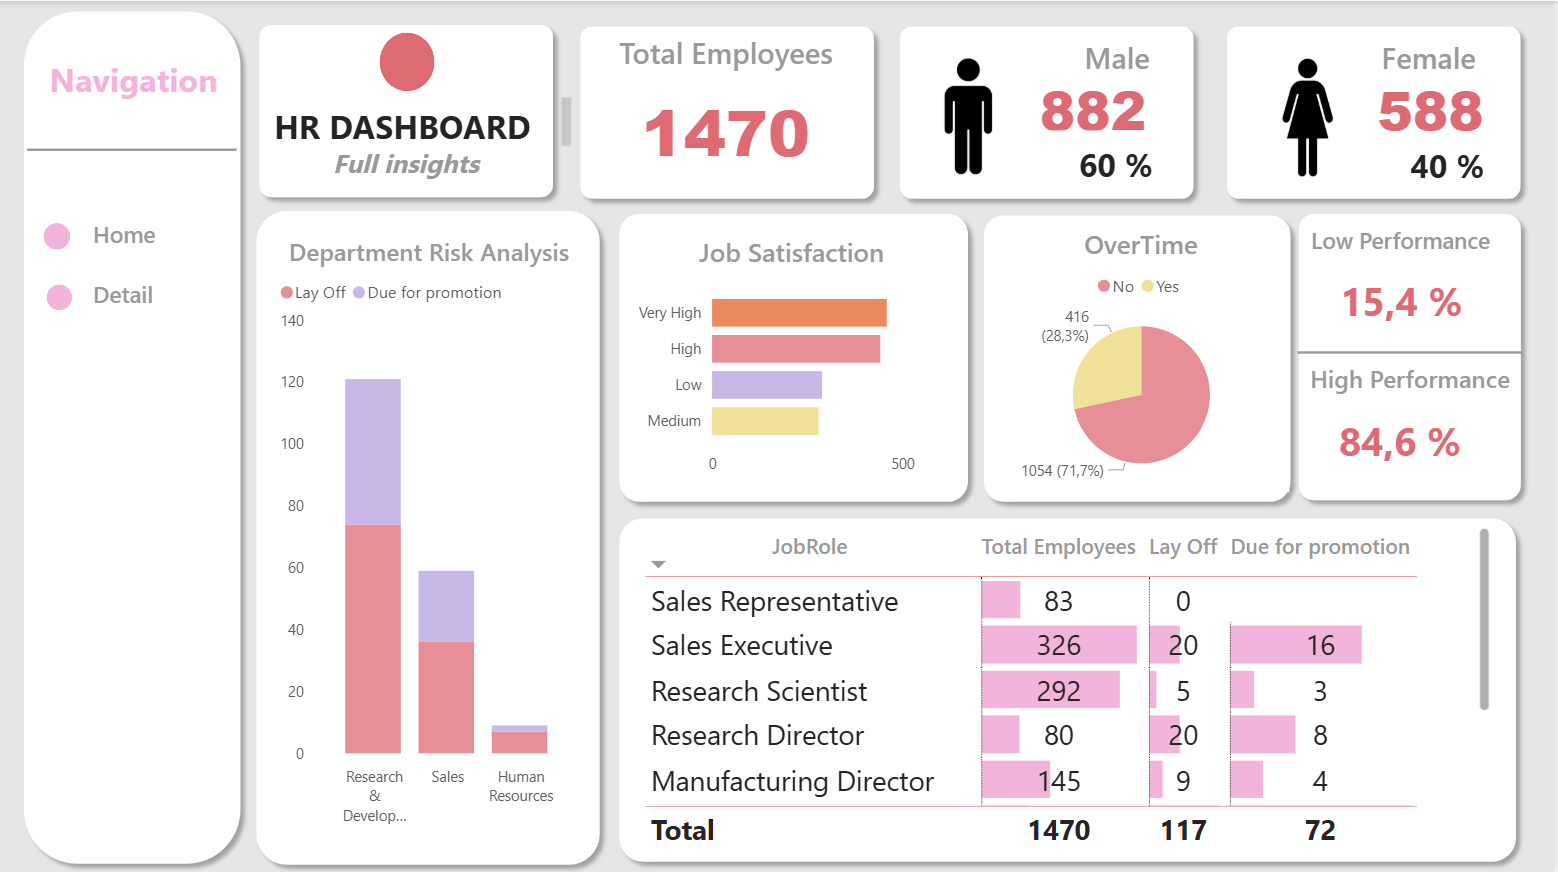

What the dashboard file says about the page in this screenshot:
{"tool":"powerbi","page":{"name":"Detail","canvas":[1280,720],"ordinal":1},"visuals":[{"type":"shape","box":[10.6,0,195.3,719.2],"z":0},{"type":"shape","box":[205.4,10.6,258.9,159],"z":1000},{"type":"shape","box":[469.4,12.1,258.9,159],"z":2000},{"type":"shape","box":[733.4,12.1,258.9,159],"z":3000},{"type":"shape","box":[1002.4,12.1,258.9,159],"z":4000},{"type":"textbox","box":[186.2,74.2,289.2,51.5],"z":5000},{"type":"textbox","box":[185.7,101.5,289.2,81.8],"z":6000},{"type":"shape","box":[312.9,25.7,45.4,48.5],"z":7000},{"type":"cardVisual","title":"Total Employees","fields":{"Data":["All Measures.Total Employees"]},"box":[482.3,25.7,232.5,128.4],"z":8000},{"type":"cardVisual","title":"Male","fields":{"Data":["All Measures.Male"]},"box":[822.7,51.5,156,77.2],"z":9000},{"type":"textbox","box":[888.8,24.2,74.2,42.4],"z":10000},{"type":"cardVisual","fields":{"Data":["All Measures.% male"]},"box":[801.5,101.5,177.2,62.1],"z":11000},{"type":"image","box":[750,24.2,95.4,140.8],"z":12000},{"type":"cardVisual","fields":{"Data":["All Measures.% female"]},"box":[1105.4,103,146.9,62.1],"z":13000},{"type":"cardVisual","title":"Male","fields":{"Data":["All Measures.Female"]},"box":[1100.8,51.5,156,77.2],"z":14000},{"type":"textbox","box":[1132.6,24.2,99.9,42.4],"z":15000},{"type":"image","box":[1022.1,0,110.5,192.3],"z":16000},{"type":"shape","box":[202.4,164.3,299.8,555.7],"z":17000},{"type":"columnChart","title":"Department Risk Analysis","fields":{"Category":["HR Analytics Data.Department"],"Y":["All Measures.Lay Off","All Measures.Due for promotion"]},"box":[225.1,193,257.4,493.6],"z":18000},{"type":"shape","box":[501.7,166.9,304.1,254.1],"z":19000},{"type":"shape","box":[801.5,168.6,269.5,252.9],"z":20000},{"type":"shape","box":[501.2,417.9,755.6,299.8],"z":21000},{"type":"clusteredBarChart","title":"Job Satisfaction","fields":{"Category":["HR Analytics Data.Job Satisfaction Meaning"],"Y":["All Measures.Total Employees"]},"box":[515.8,191.3,274.1,207.4],"z":22000},{"type":"pieChart","title":"OverTime","fields":{"Category":["HR Analytics Data.OverTime"],"Y":["All Measures.Total Employees"]},"box":[818.2,185.2,243.8,219.6],"z":23000},{"type":"tableEx","fields":{"Values":["HR Analytics Data.JobRole","All Measures.Total Employees","All Measures.Lay Off","All Measures.Due for promotion"]},"box":[525.4,428.5,707.1,277.1],"z":24000},{"type":"shape","box":[1061.5,166.6,199.9,252.9],"z":25000},{"type":"cardVisual","title":"Low Performance","fields":{"Data":["All Measures.% Low Performance"]},"box":[1075.1,184.7,171.1,96.9],"z":26000},{"type":"shape","box":[1069,139.3,184.7,299.8],"z":27000},{"type":"cardVisual","title":"High Performance","fields":{"Data":["All Measures.% High Performance"]},"box":[1073.6,298.3,175.6,99.9],"z":28000},{"type":"textbox","box":[36.3,40.9,149.9,54.5],"z":29000},{"type":"shape","box":[22.7,40.9,172.6,163.5],"z":30000},{"type":"shape","box":[36.3,183.2,22,22],"z":31000},{"type":"shape","box":[37.9,233.2,21.2,21.2],"z":32000},{"type":"textbox","box":[71.2,174.1,86.3,39.4],"z":32001},{"type":"textbox","box":[71.2,224.1,75.7,39.4],"z":32002},{"type":"actionButton","box":[48.5,172.6,99.9,39.4],"z":32003}]}

Visuals, with their boxes in screenshot pixels (x1, y1, x2, y2), scaled from the page's 1280x720 canvas onto the 1558x872 screenshot:
shape: {"x1": 13, "y1": 0, "x2": 251, "y2": 871}
shape: {"x1": 250, "y1": 13, "x2": 565, "y2": 205}
shape: {"x1": 571, "y1": 15, "x2": 886, "y2": 207}
shape: {"x1": 893, "y1": 15, "x2": 1208, "y2": 207}
shape: {"x1": 1220, "y1": 15, "x2": 1535, "y2": 207}
textbox: {"x1": 227, "y1": 90, "x2": 579, "y2": 152}
textbox: {"x1": 226, "y1": 123, "x2": 578, "y2": 222}
shape: {"x1": 381, "y1": 31, "x2": 436, "y2": 90}
"Total Employees" cardVisual: {"x1": 587, "y1": 31, "x2": 870, "y2": 187}
"Male" cardVisual: {"x1": 1001, "y1": 62, "x2": 1191, "y2": 156}
textbox: {"x1": 1082, "y1": 29, "x2": 1172, "y2": 81}
cardVisual - All Measures.% male: {"x1": 976, "y1": 123, "x2": 1191, "y2": 198}
image: {"x1": 913, "y1": 29, "x2": 1029, "y2": 200}
cardVisual - All Measures.% female: {"x1": 1345, "y1": 125, "x2": 1524, "y2": 200}
"Male" cardVisual: {"x1": 1340, "y1": 62, "x2": 1530, "y2": 156}
textbox: {"x1": 1379, "y1": 29, "x2": 1500, "y2": 81}
image: {"x1": 1244, "y1": 0, "x2": 1379, "y2": 233}
shape: {"x1": 246, "y1": 199, "x2": 611, "y2": 871}
"Department Risk Analysis" columnChart: {"x1": 274, "y1": 234, "x2": 587, "y2": 832}
shape: {"x1": 611, "y1": 202, "x2": 981, "y2": 510}
shape: {"x1": 976, "y1": 204, "x2": 1304, "y2": 510}
shape: {"x1": 610, "y1": 506, "x2": 1530, "y2": 869}
"Job Satisfaction" clusteredBarChart: {"x1": 628, "y1": 232, "x2": 961, "y2": 483}
"OverTime" pieChart: {"x1": 996, "y1": 224, "x2": 1293, "y2": 490}
tableEx - HR Analytics Data.JobRole x All Measures.Total Employees: {"x1": 640, "y1": 519, "x2": 1500, "y2": 855}
shape: {"x1": 1292, "y1": 202, "x2": 1535, "y2": 508}
"Low Performance" cardVisual: {"x1": 1309, "y1": 224, "x2": 1517, "y2": 341}
shape: {"x1": 1301, "y1": 169, "x2": 1526, "y2": 532}
"High Performance" cardVisual: {"x1": 1307, "y1": 361, "x2": 1521, "y2": 482}
textbox: {"x1": 44, "y1": 50, "x2": 227, "y2": 116}
shape: {"x1": 28, "y1": 50, "x2": 238, "y2": 248}
shape: {"x1": 44, "y1": 222, "x2": 71, "y2": 249}
shape: {"x1": 46, "y1": 282, "x2": 72, "y2": 308}
textbox: {"x1": 87, "y1": 211, "x2": 192, "y2": 259}
textbox: {"x1": 87, "y1": 271, "x2": 179, "y2": 319}
actionButton: {"x1": 59, "y1": 209, "x2": 181, "y2": 257}
